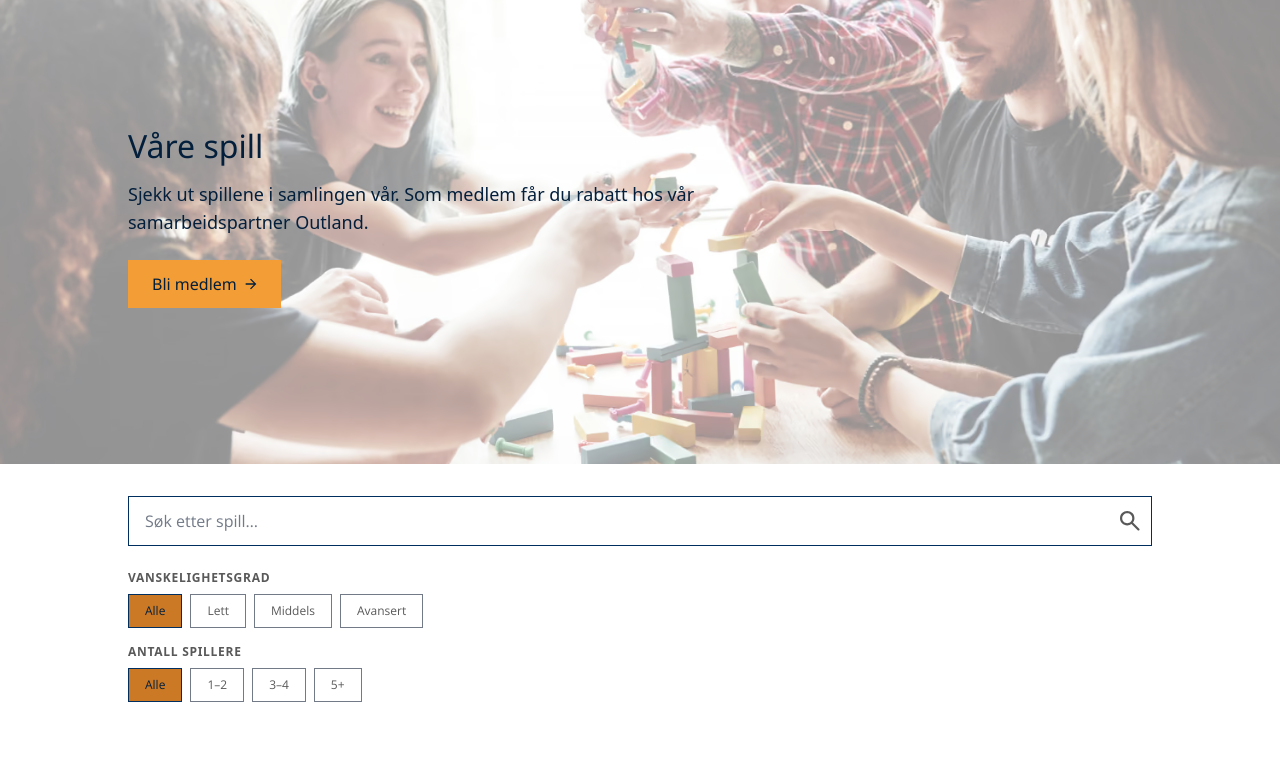
OurGamesSection › filters by difficulty
The width and height of the screenshot is (1280, 768).
Click the button "Avansert": {"x": 382, "y": 611} x1=340 y1=594 x2=423 y2=628
(page scrolled)
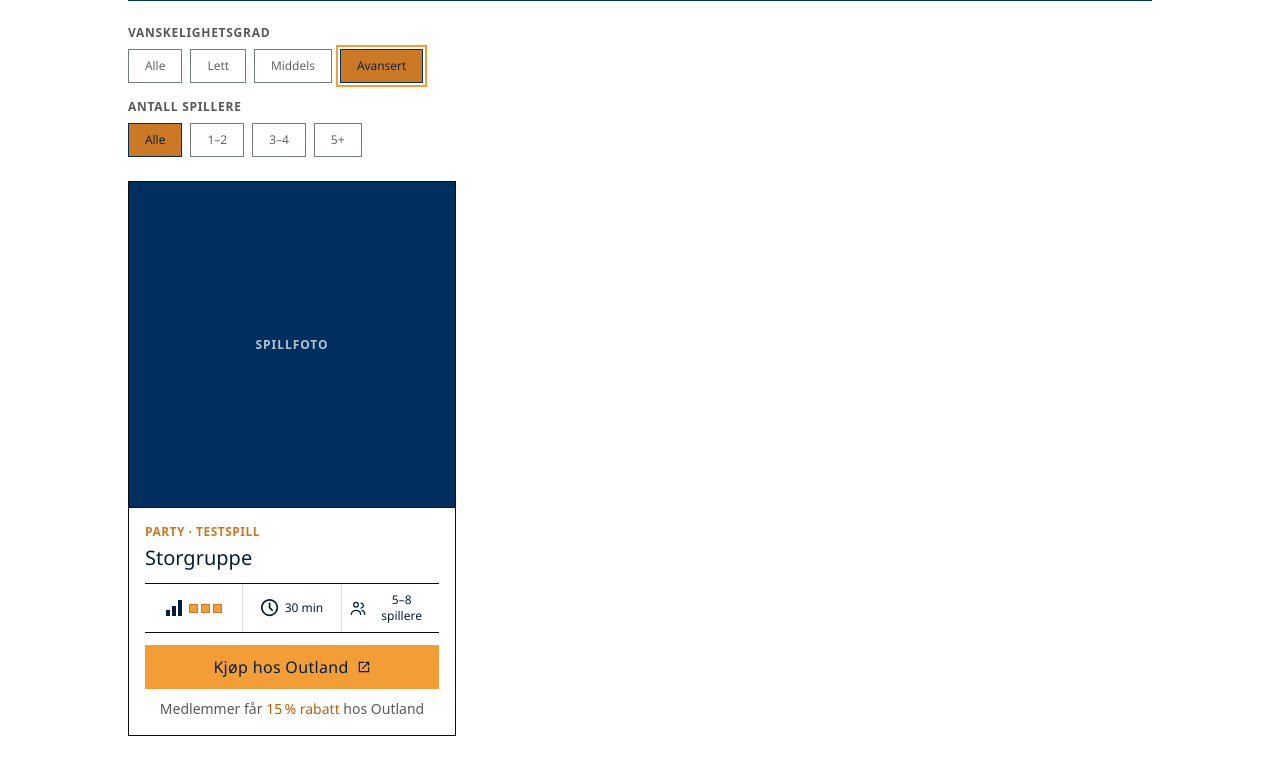
Now the heading "Storgruppe" is shown, box x1=145 y1=544 x2=252 y2=571
